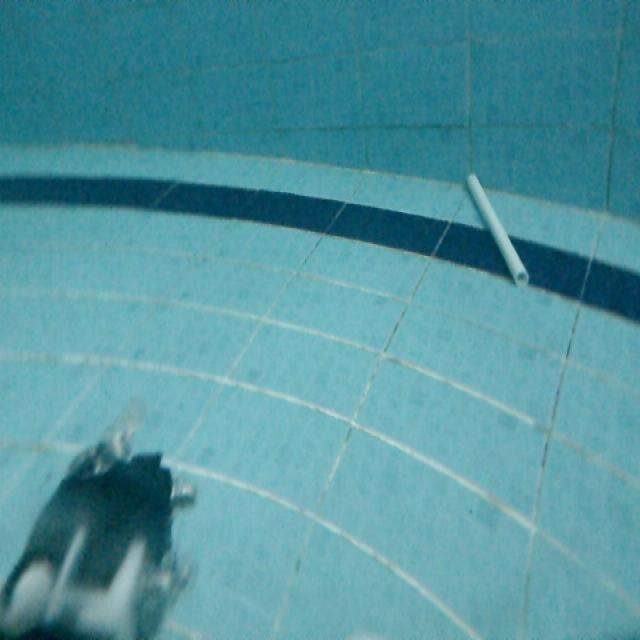Cube: (463, 166, 532, 290)
